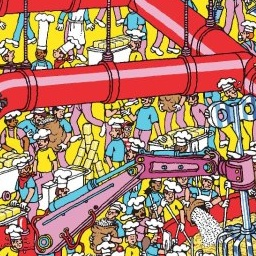waldo: (121, 118, 133, 149), (121, 118, 135, 138)
